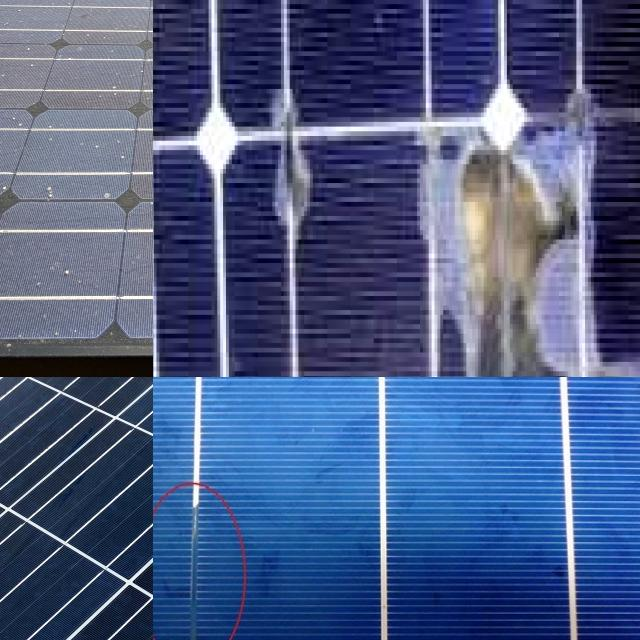crack: (0, 377, 153, 640)
dust: (0, 108, 153, 332), (0, 0, 99, 106), (0, 130, 48, 343), (57, 0, 153, 44), (0, 0, 59, 48), (0, 0, 23, 30)
shadow: (414, 84, 640, 377), (169, 502, 229, 640)
